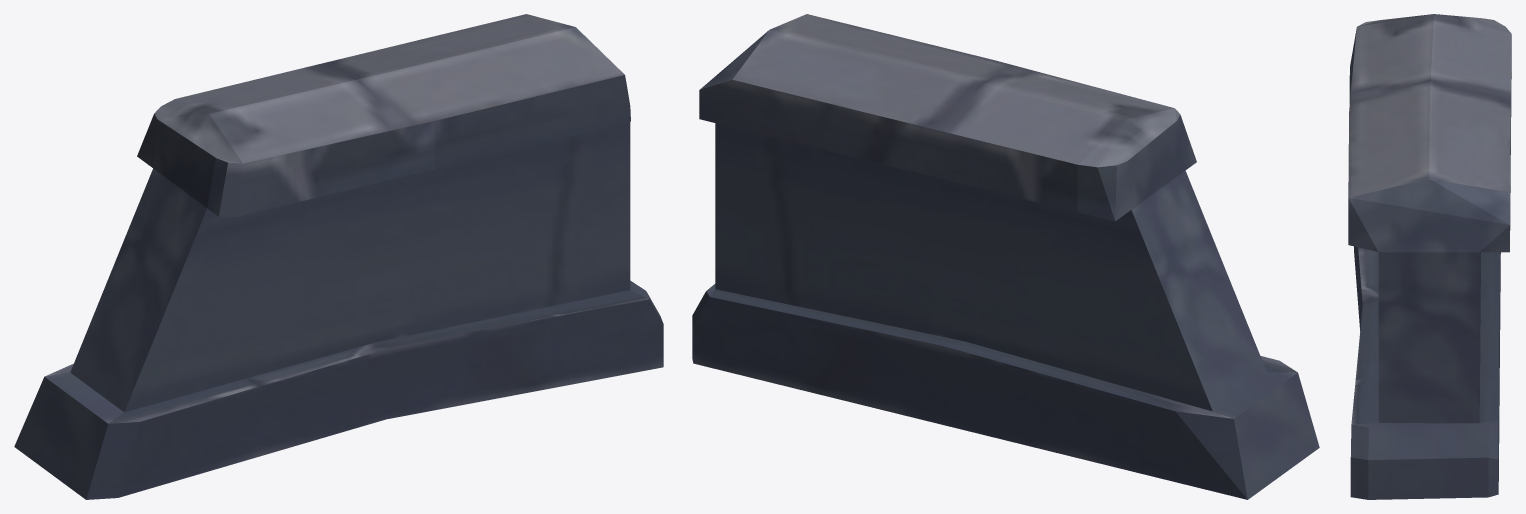
File: Beidaying_posui01.FBX
The picture shows the model from 3 angles, left to right: view 1: azimuth 30°, elevation 25°; view 2: azimuth 150°, elevation 25°; view 3: azimuth 270°, elevation 25°; orthographic projection. The views are drawn at different scales.
Parts seen in each view (by area): view 1: Beidaying_posui01; view 2: Beidaying_posui01; view 3: Beidaying_posui01.
Boxes of the visible parts, x1,y1,x2,y2 form: Beidaying_posui01: (14, 14, 663, 499); Beidaying_posui01: (692, 14, 1319, 499); Beidaying_posui01: (1348, 14, 1511, 499).
Bounding box in the file's own units: 63.68 × 16.86 × 33.89.
